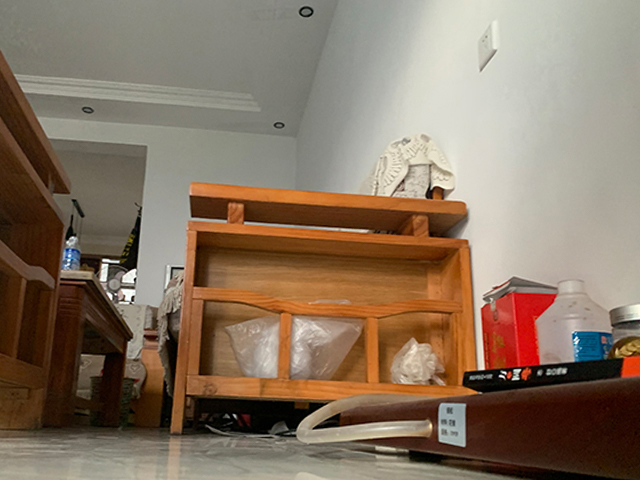sofa: (156, 132, 474, 435)
table: (43, 268, 134, 428)
trashcan: (88, 373, 136, 430)
